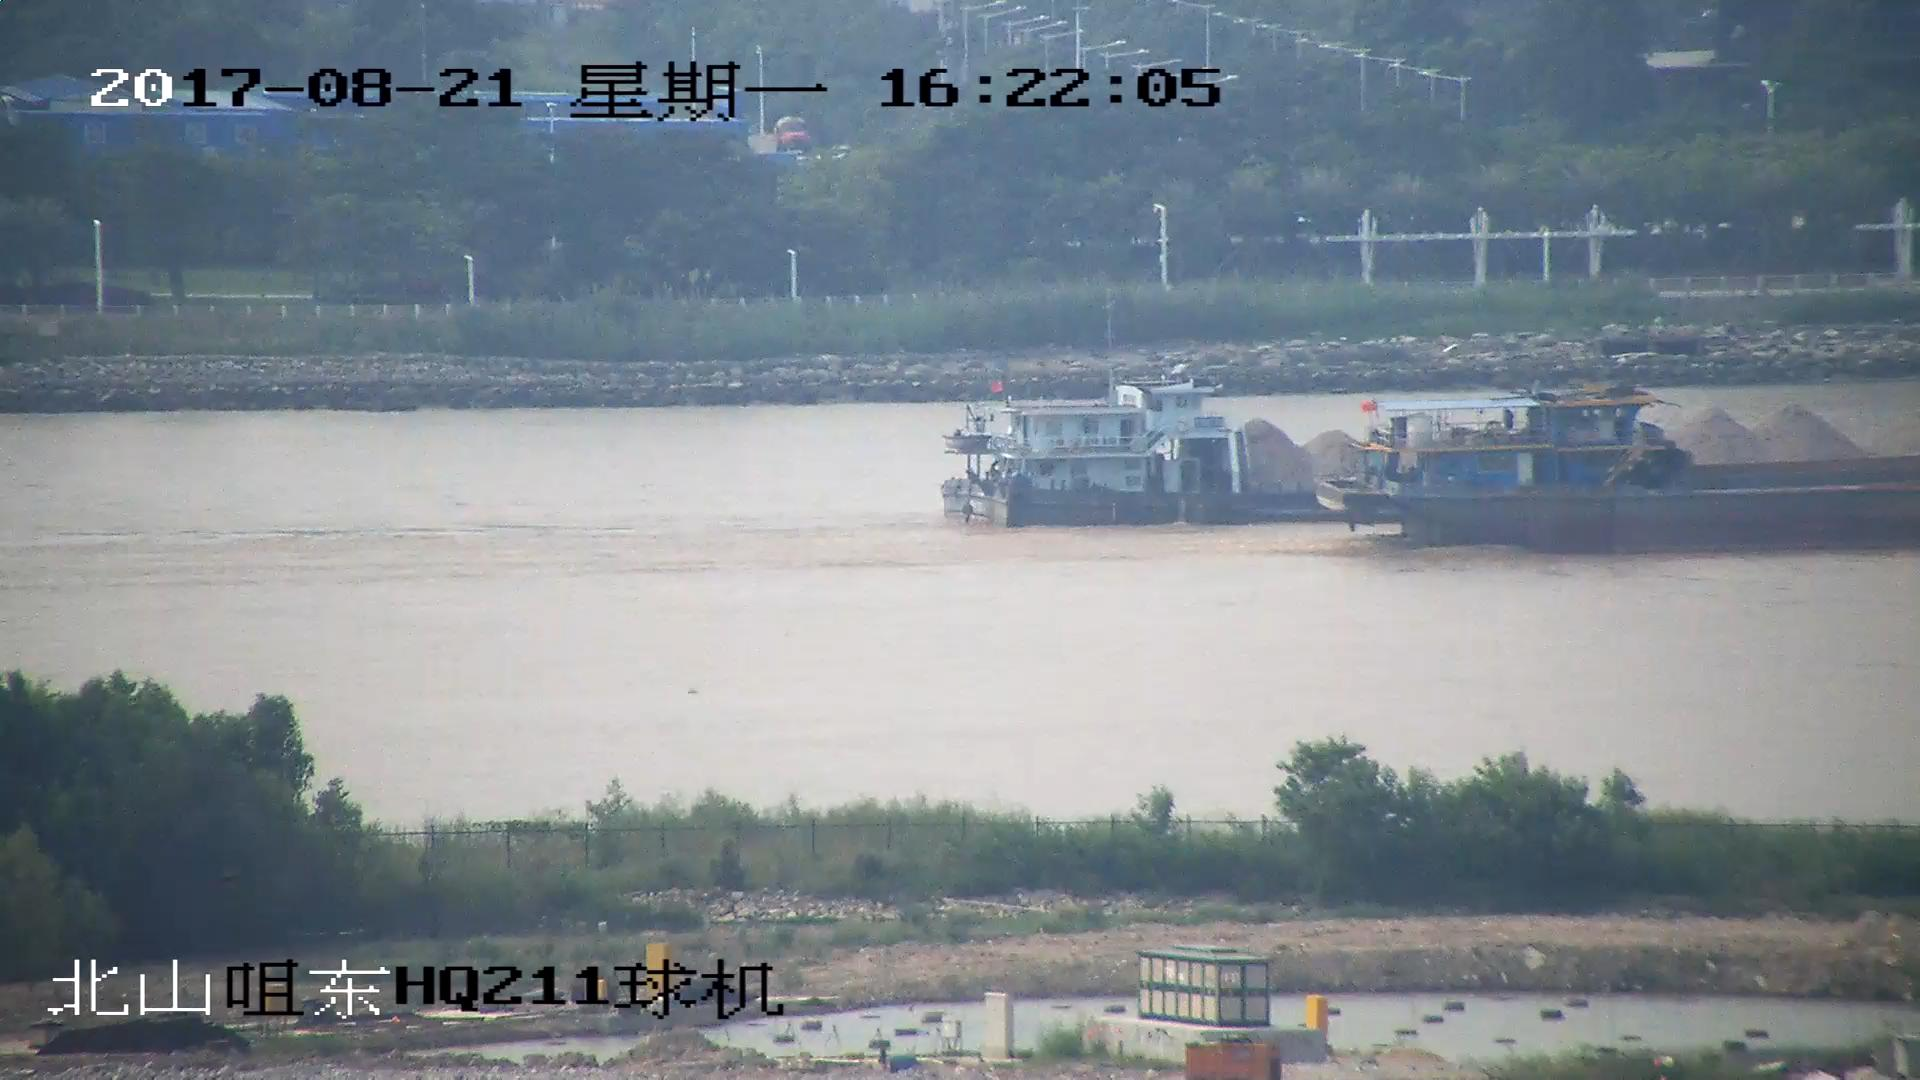bulk cargo carrier: (1327, 397, 1920, 553)
ore carrier: (931, 374, 1920, 523)
